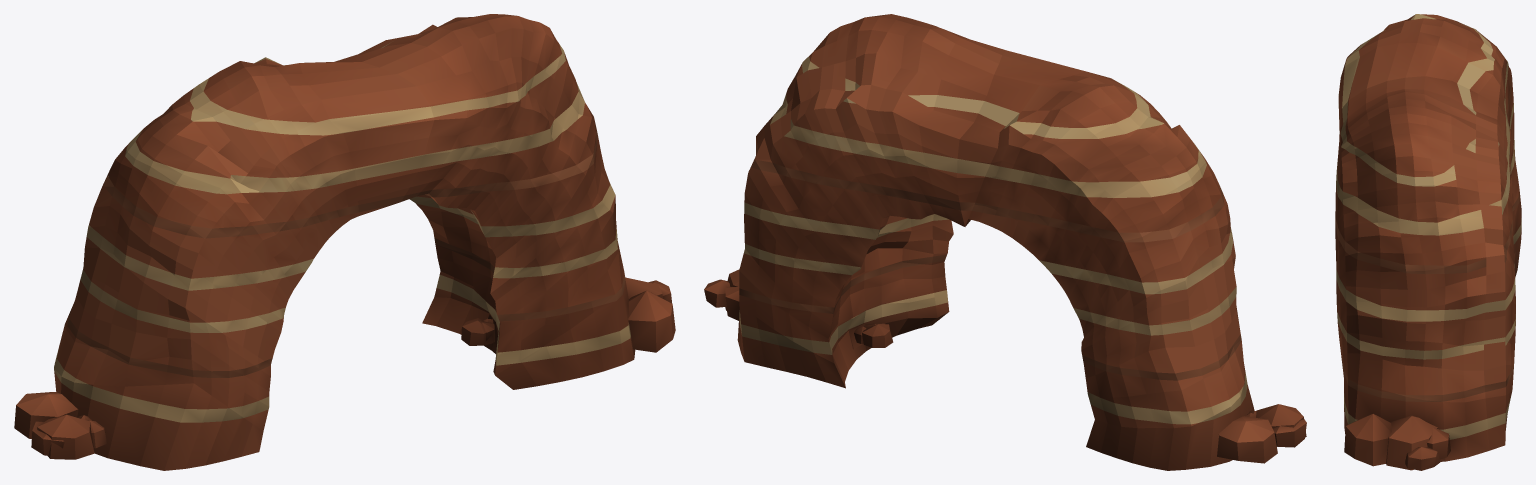
File: natural_arch.glb
3 views of the same model, side by side, from view 1: azimuth 30°, elevation 25°; view 2: azimuth 150°, elevation 25°; view 3: azimuth 270°, elevation 25° (orthographic). The views are drawn at different scales.
Visible parts, largest first — view 1: rock_red, sand, dirt_red; view 2: rock_red, sand, dirt_red; view 3: rock_red, sand, dirt_red.
Boxes of the visible parts, x1,y1,x2,y2 form: rock_red: [14, 14, 675, 470]; sand: [54, 43, 630, 422]; dirt_red: [67, 128, 625, 377]; rock_red: [704, 14, 1306, 470]; sand: [739, 56, 1247, 424]; dirt_red: [739, 142, 1241, 380]; rock_red: [1335, 14, 1521, 470]; sand: [1336, 14, 1521, 439]; dirt_red: [1335, 75, 1519, 401].
Size of what is drawn, in the model's own units: 56.01 by 29.23 by 16.64.
